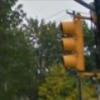traffic lights: (59, 15, 88, 73)
